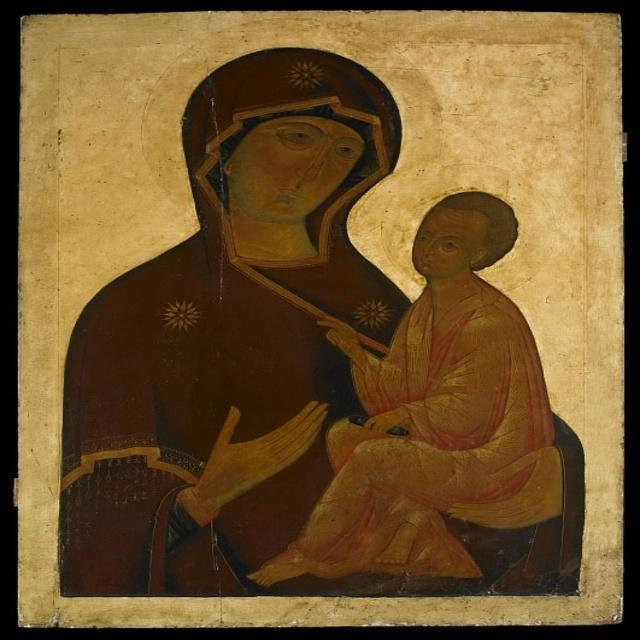aura: (136, 18, 440, 224), (384, 166, 556, 294)
christ_child: (389, 176, 556, 577)
christ_hand: (305, 310, 389, 382)
mary: (186, 49, 392, 312)
mary_and_child: (183, 49, 521, 593)
